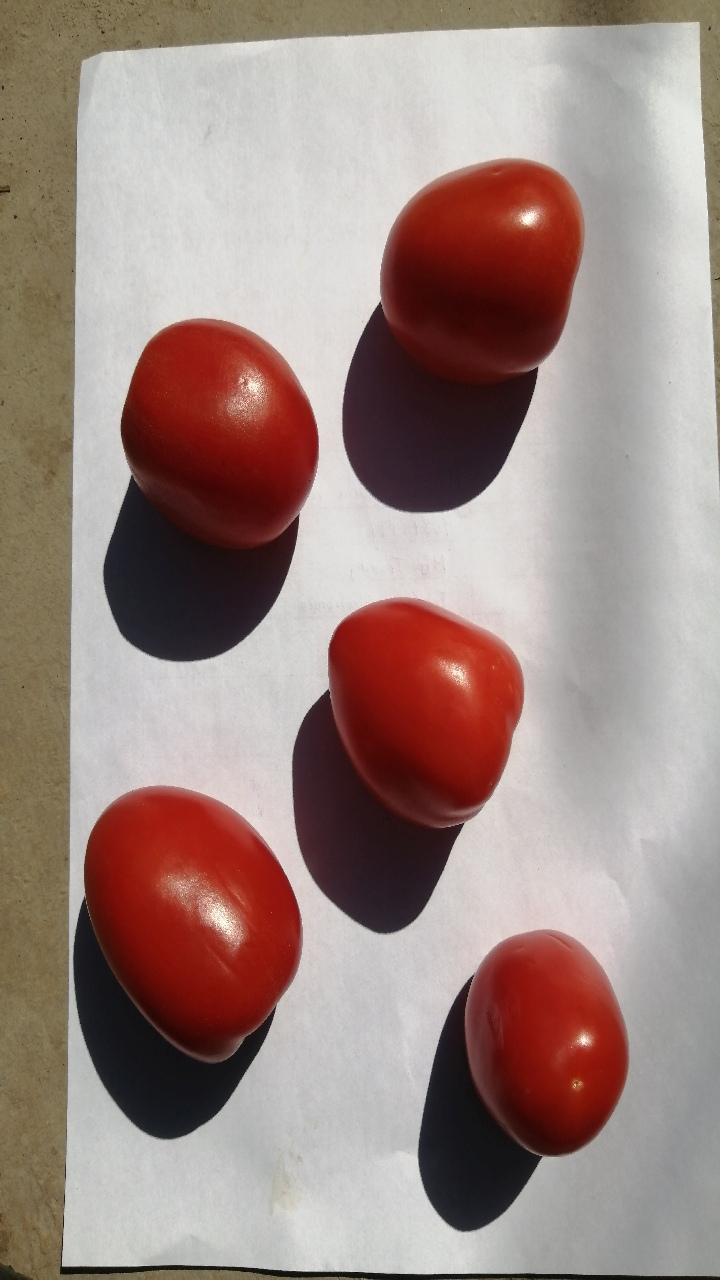tomateRojo: (58, 769, 320, 1086), (354, 140, 612, 425), (100, 286, 343, 568), (308, 579, 551, 854), (443, 909, 651, 1174)
